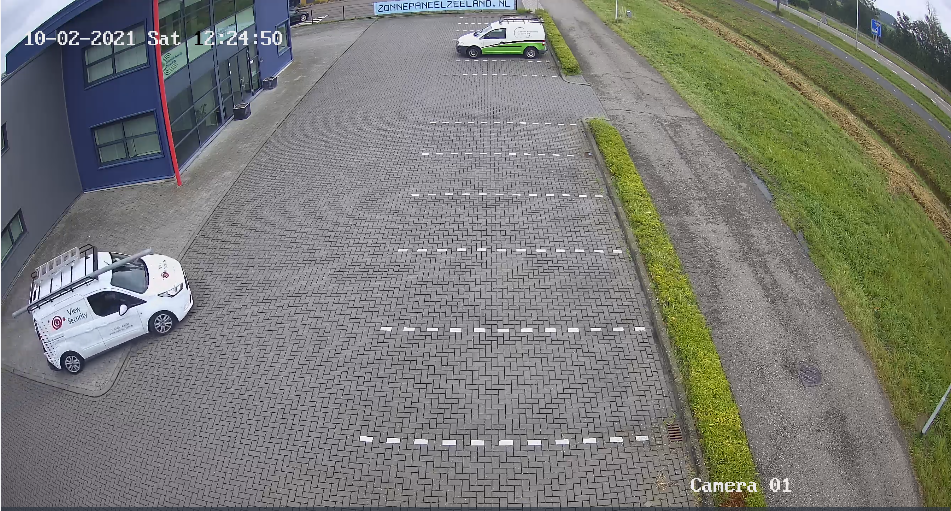werkbus: (31, 213, 196, 399), (454, 8, 556, 69)
